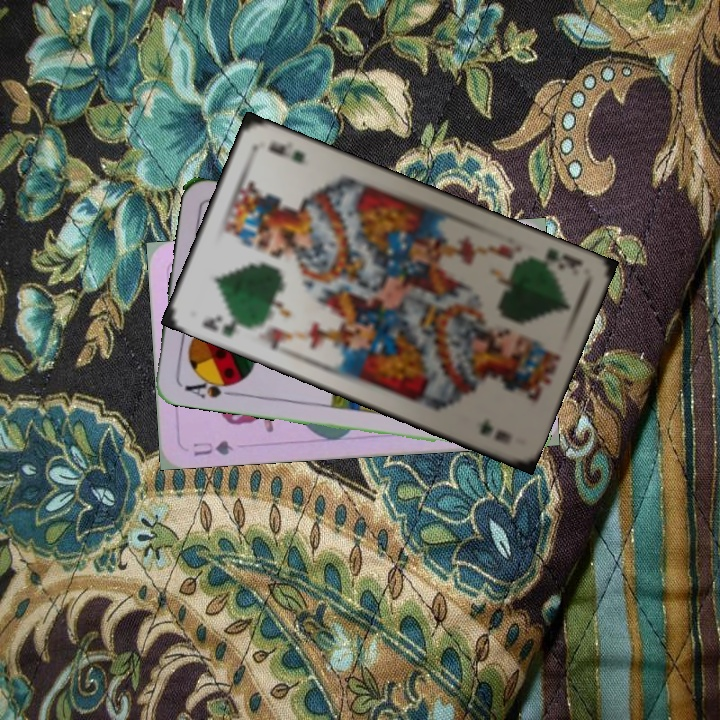GK: (528, 243, 587, 271), (198, 311, 250, 339)
GU: (189, 437, 236, 459)
SA: (180, 373, 239, 401)
